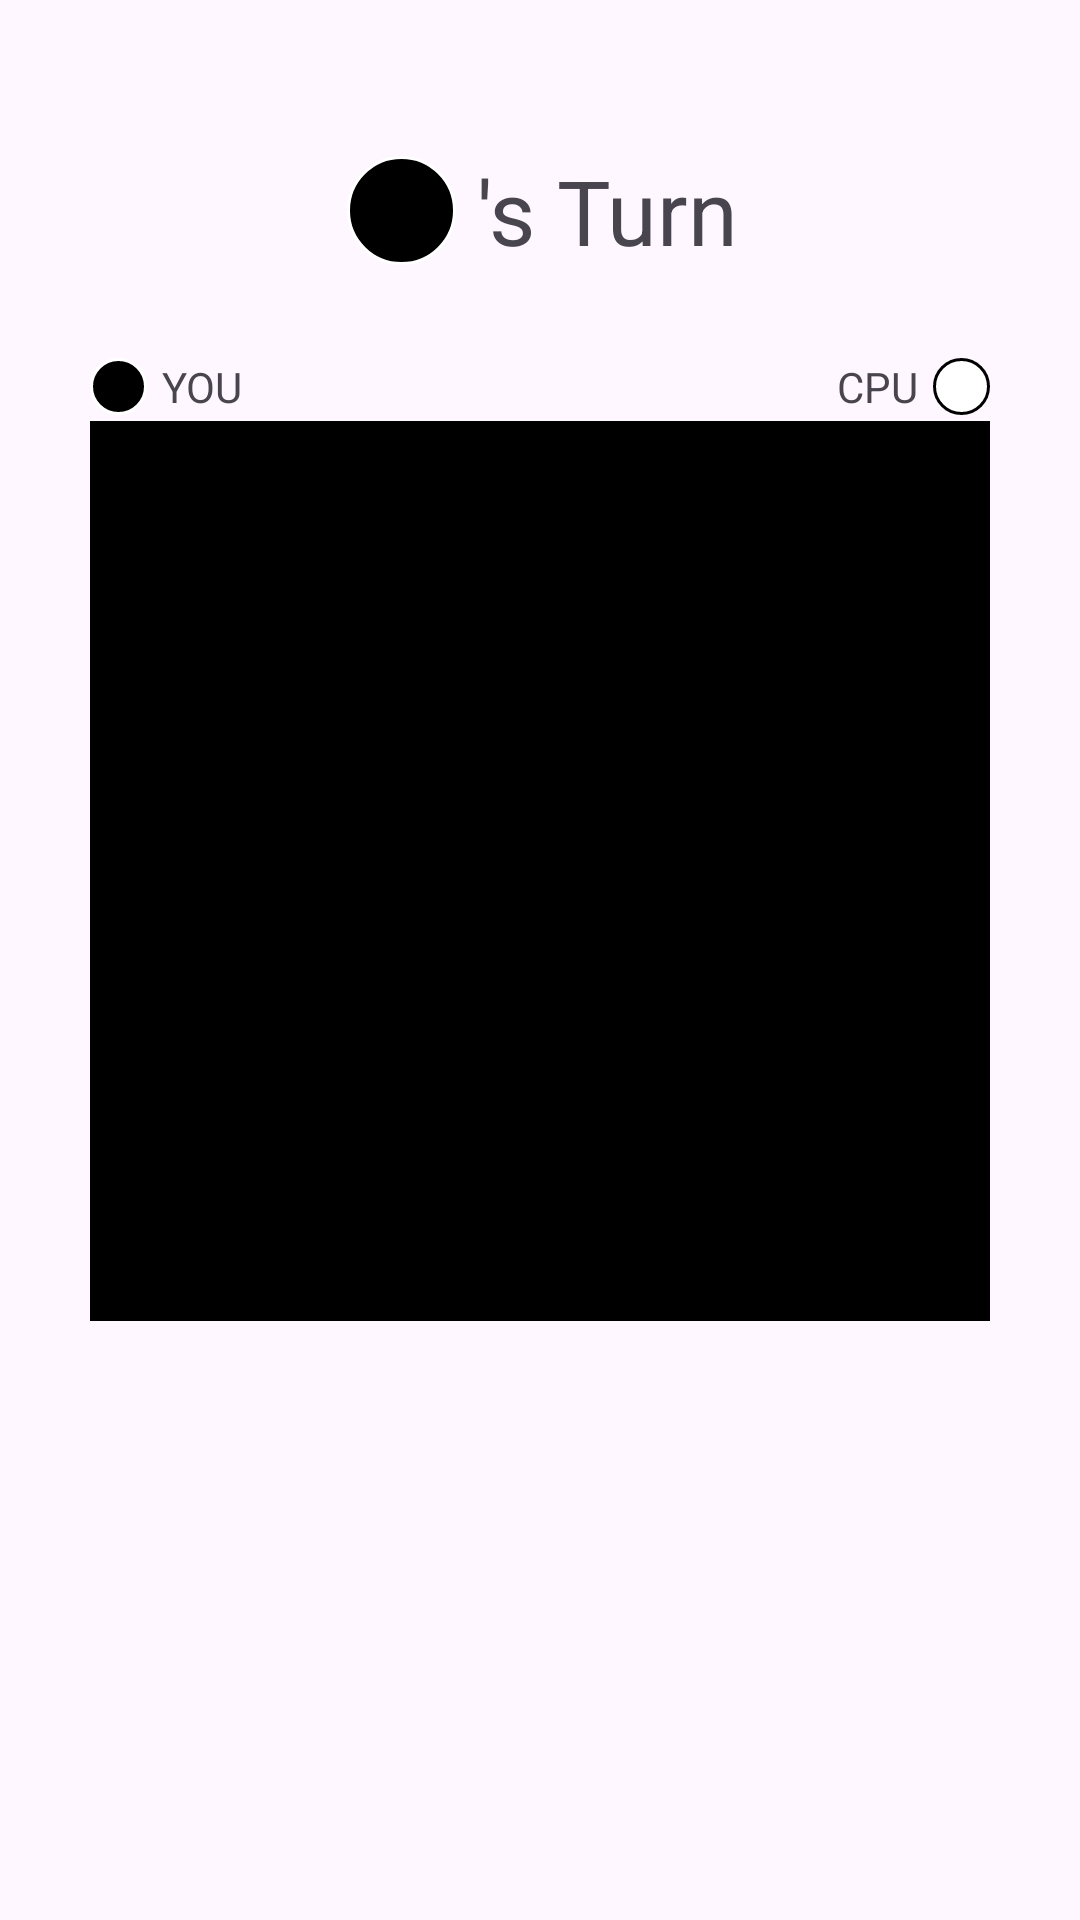

Screen size 1080 x 1920. Icon name, then its box in pixels as (x1, y1, x2, y2):
stone with border: (350, 159, 453, 262), (933, 358, 990, 415), (93, 361, 144, 412)
